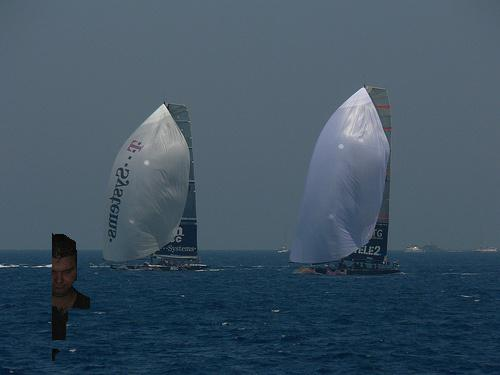tampered: (53, 234, 90, 361)
